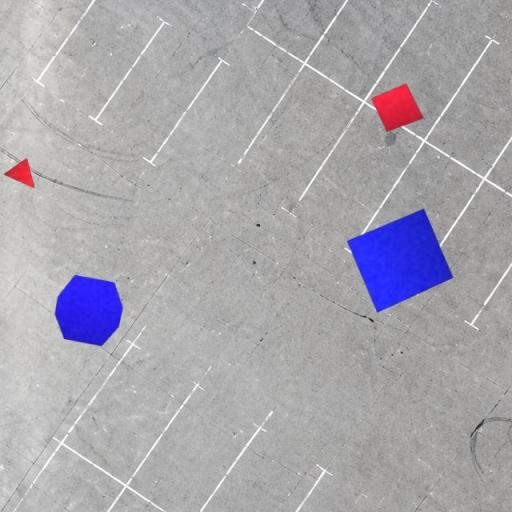BLUE_SQUARE: (346, 208, 454, 314)
RED_SQUARE: (370, 83, 425, 133)
